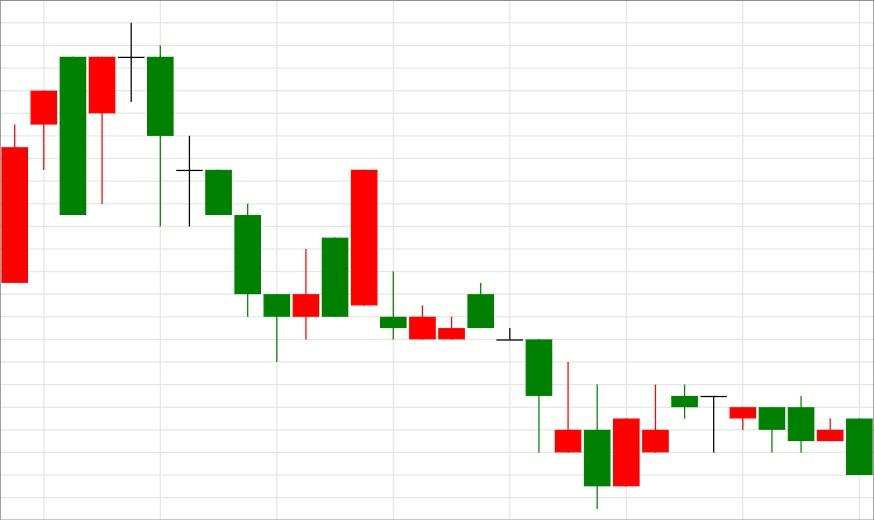evening_star_fall: (0, 22, 174, 284)
inverse_hammer_rise: (466, 283, 583, 454)
